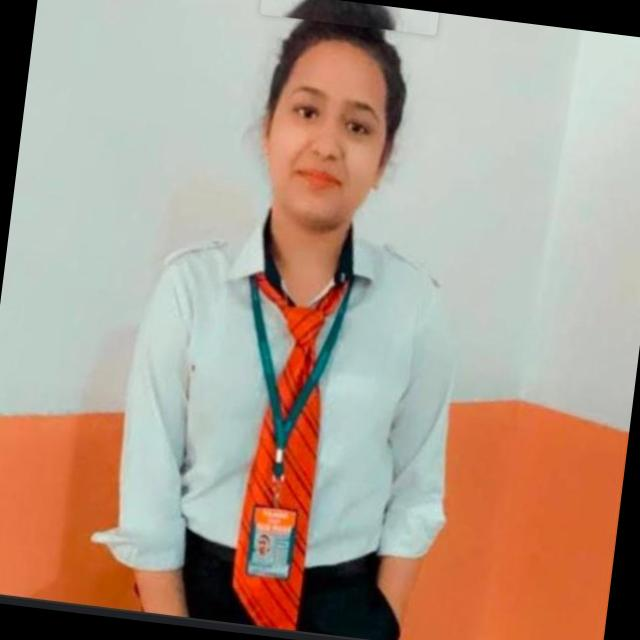id_card: (225, 246, 356, 583)
